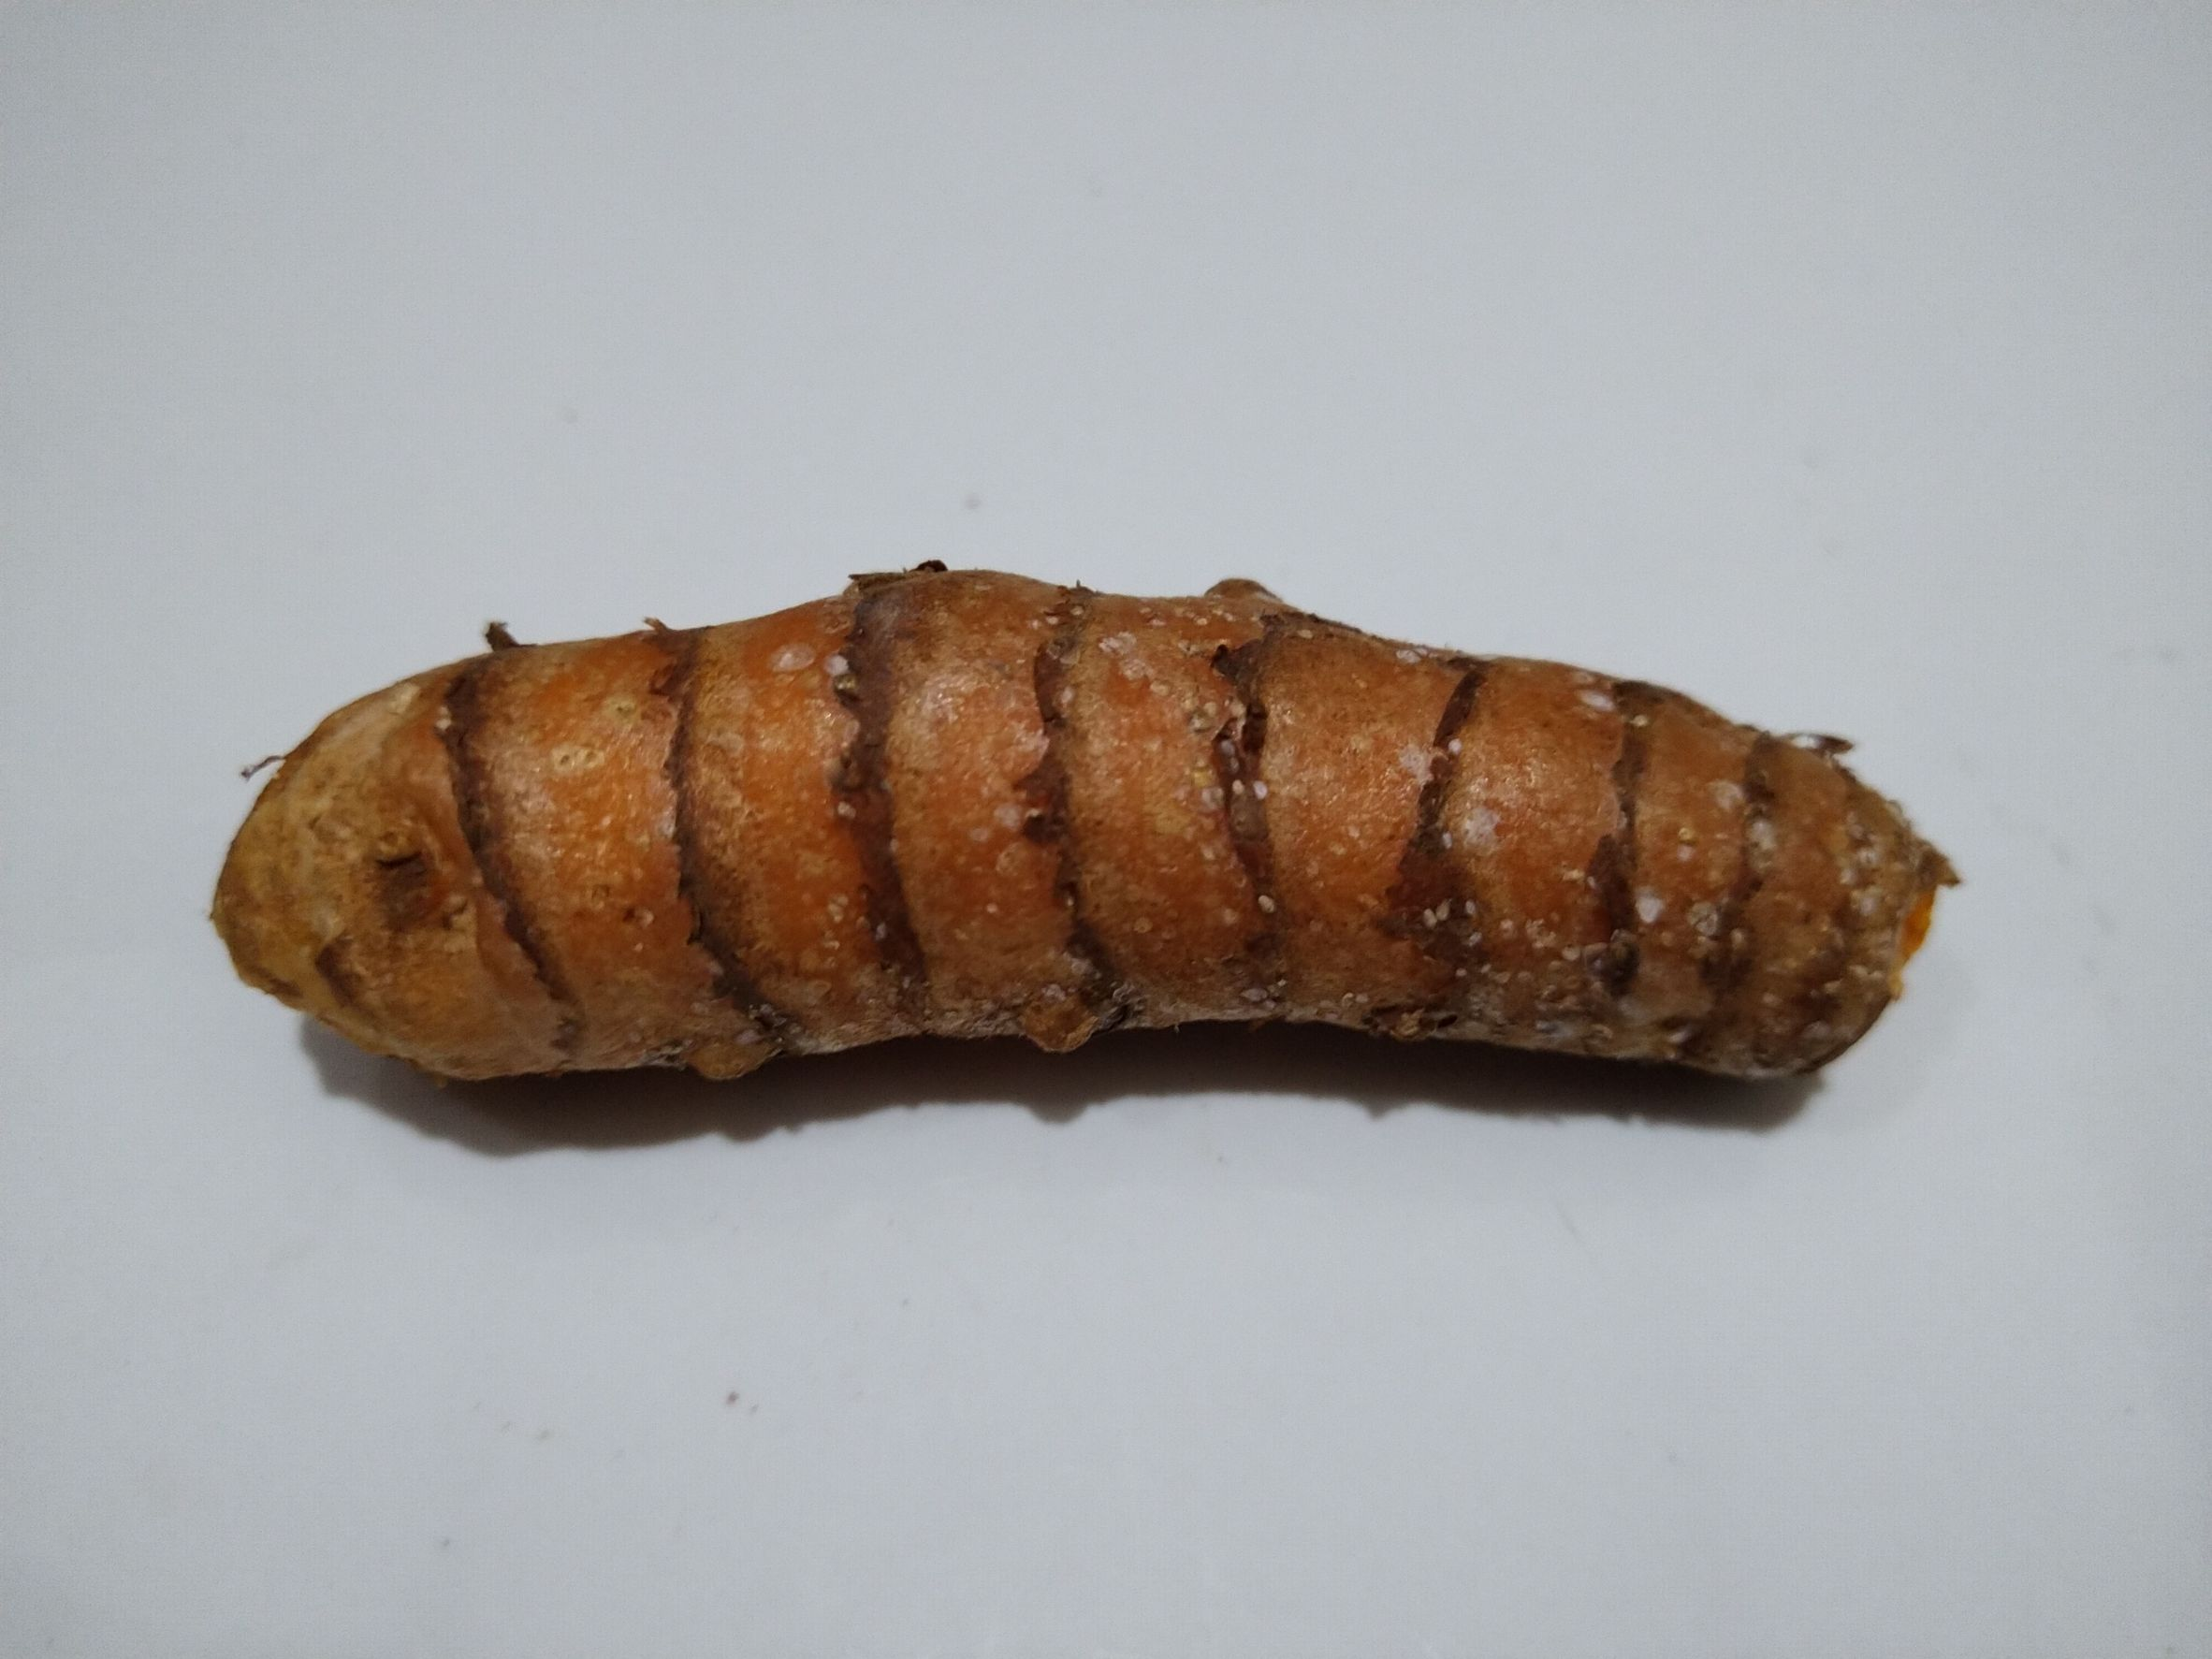Kunyit: (265, 568, 1954, 1162)
